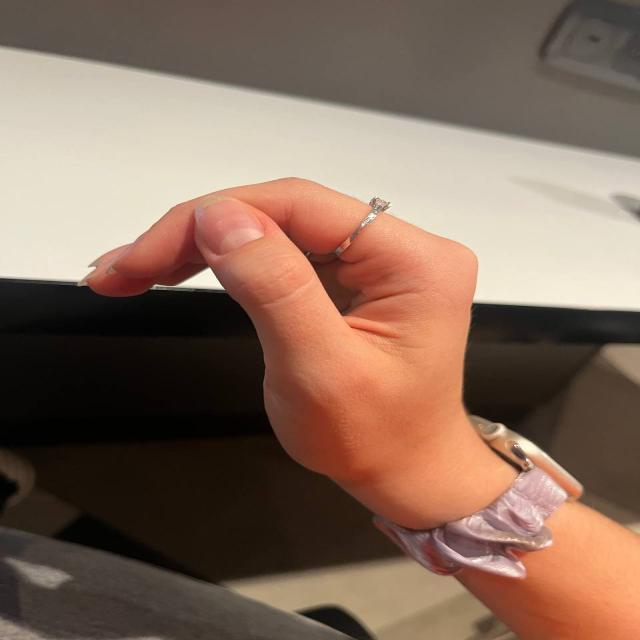f: (60, 147, 540, 498)
